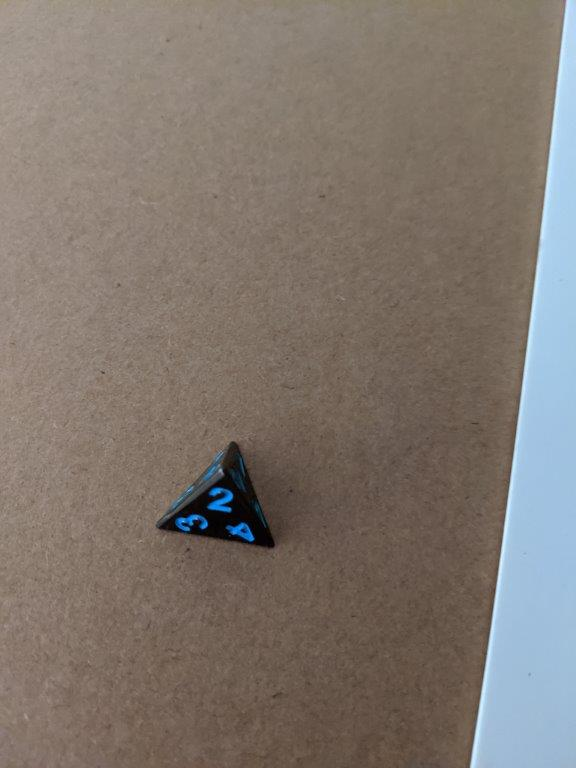d4-2: (156, 438, 281, 553)
